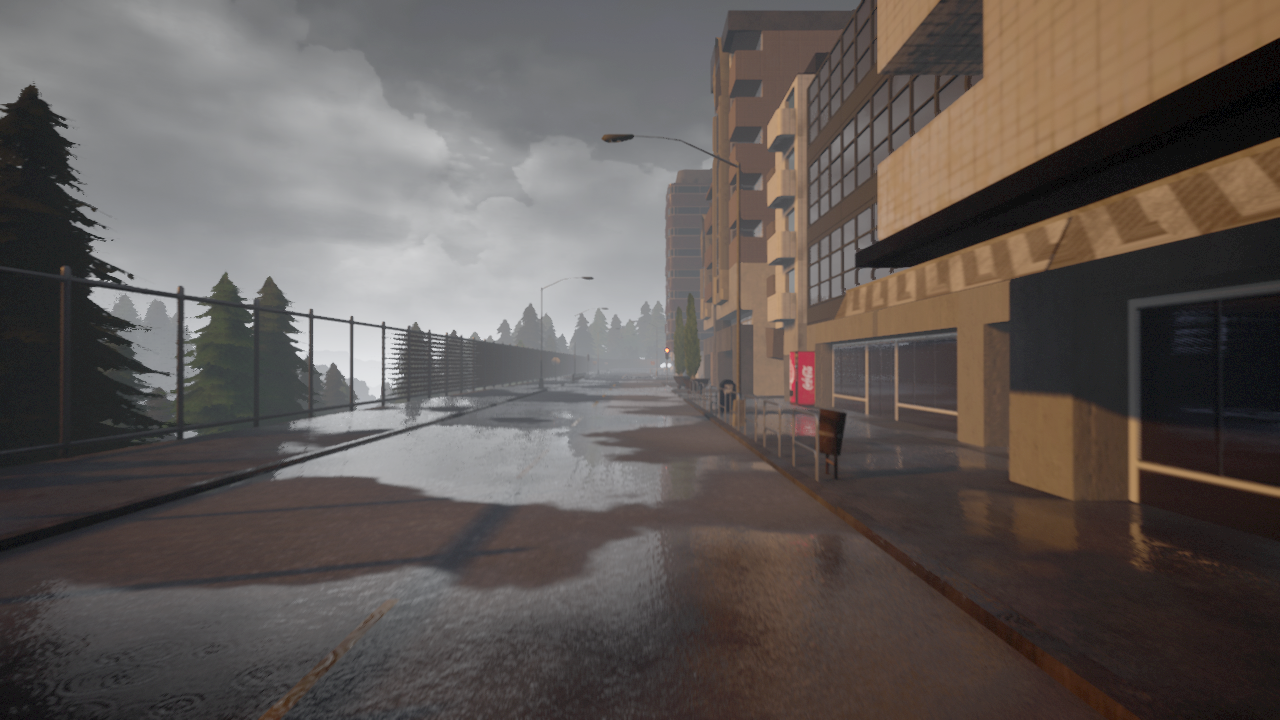red: (663, 346, 669, 361)
